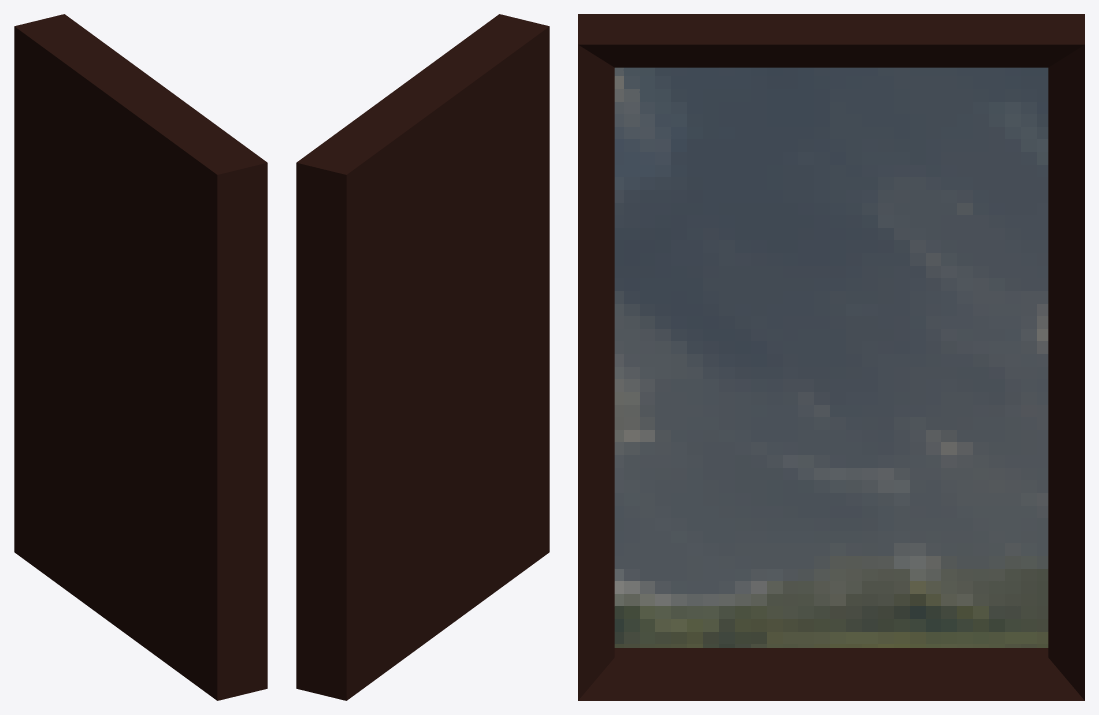
Rendered from Quadro 4.4.fbx.
The picture shows the model from 3 angles, left to right: view 1: azimuth 30°, elevation 25°; view 2: azimuth 150°, elevation 25°; view 3: azimuth 270°, elevation 25°; orthographic projection. The views are drawn at different scales.
Parts seen in each view (by area): view 1: Cube.038; view 2: Cube.038; view 3: Cube.038.
Part boxes in pixels (box(x1,y1,x2,y2)): Cube.038: box(14, 14, 267, 700); Cube.038: box(296, 14, 549, 700); Cube.038: box(578, 14, 1084, 700).
Bounding box in the file's own units: 5 × 50 × 35.
